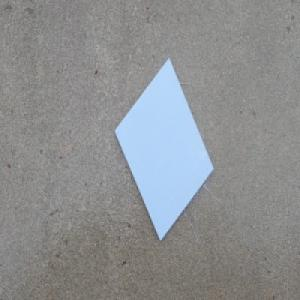PaintChip: (113, 55, 215, 243)
